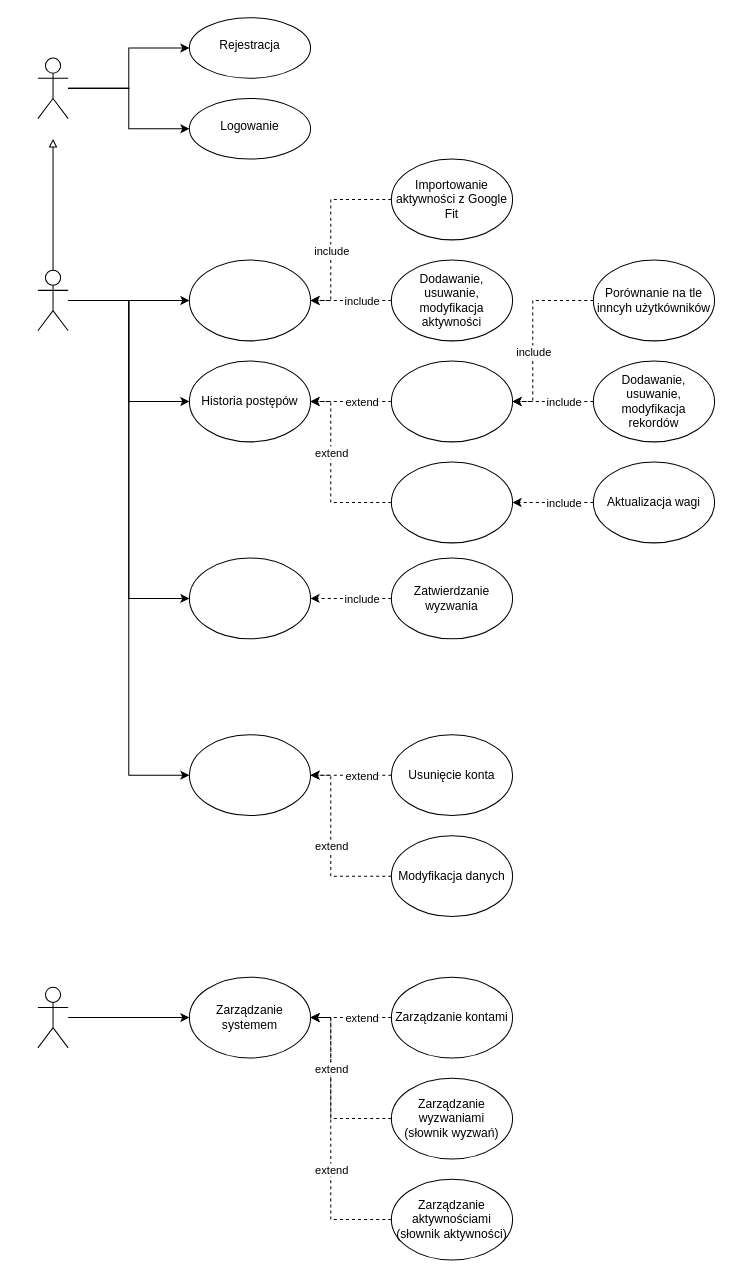
The diagram is 732 pixels wide and 1278 high, and some of its shapes have lost their labels. Each missing label, with the centre of its shape:
Administrator: point (52, 1017)
Gość: point (52, 88)
Historia wagi: point (451, 502)
Przeglądanie aktywności: point (249, 300)
Przeglądanie rekordów: point (451, 401)
Przeglądanie wyzwań: point (249, 598)
Użytkownik: point (52, 300)
Zarządzanie kontem: point (249, 775)
